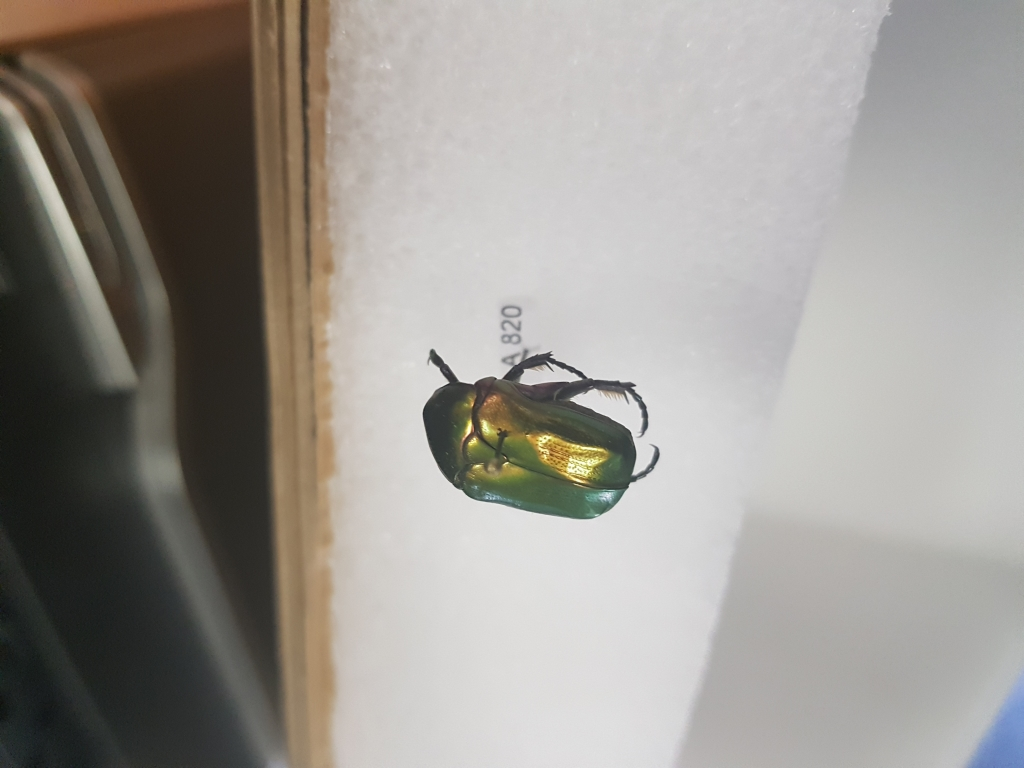Protaetia_cuprea_ignicollis: (416, 341, 662, 525)
